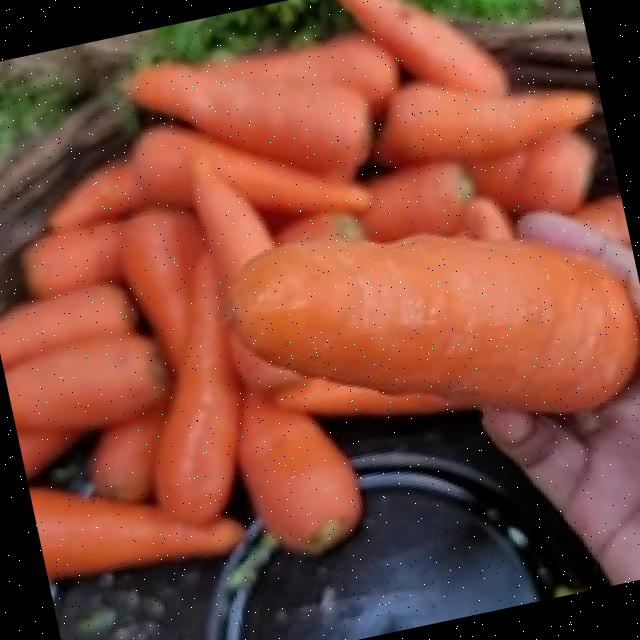carrot: (0, 0, 635, 571), (223, 232, 635, 407)
